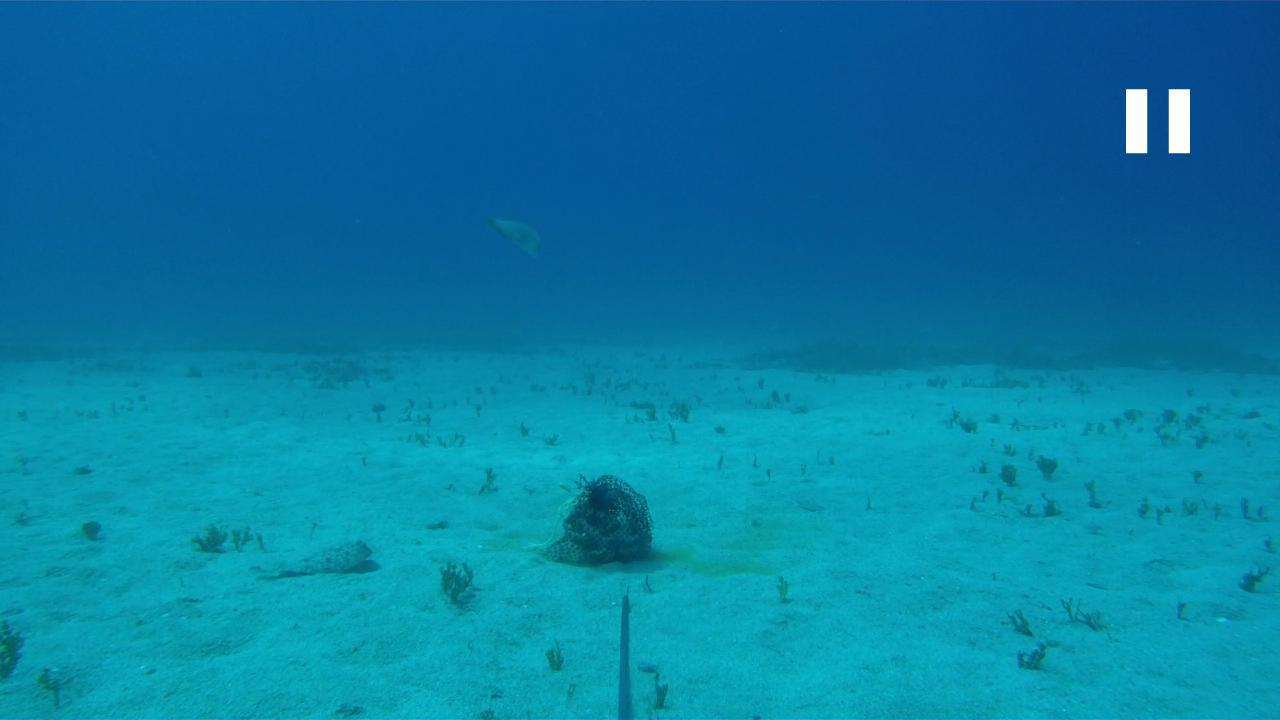bothus: (248, 532, 380, 581)
